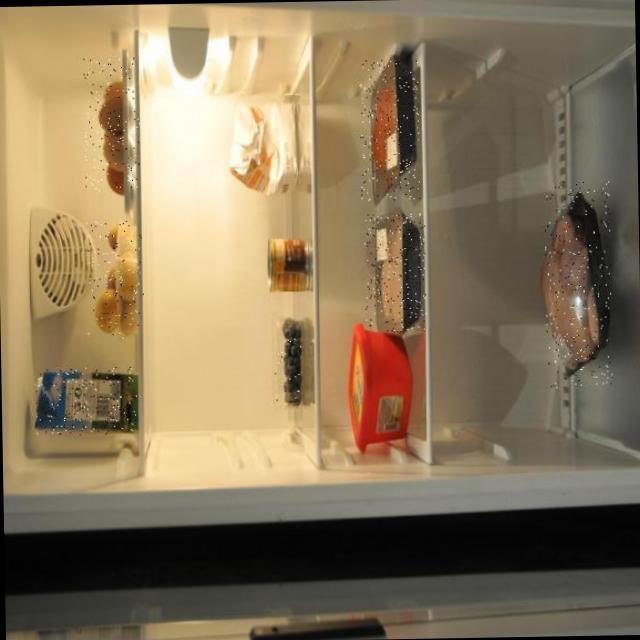Carne pollo: (543, 179, 613, 387)
Huevos: (83, 55, 141, 191)
